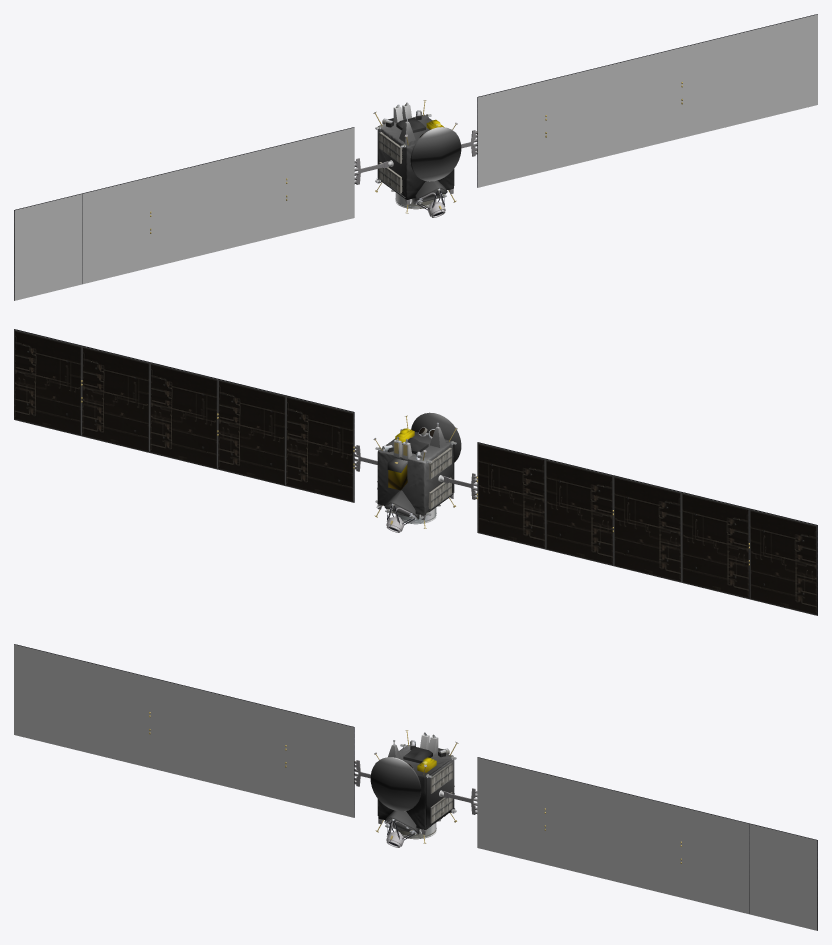
File: Dawn.obj
The picture shows the model from 3 angles, top to bottom: view 1: azimuth 30°, elevation 25°; view 2: azimuth 150°, elevation 25°; view 3: azimuth 330°, elevation 25°; orthographic projection.
Visible parts, largest first — view 1: obj9, obj3, obj6, obj7, obj8; view 2: obj8, obj3, obj7, obj6, obj4; view 3: obj9, obj3, obj6, obj7, obj8.
Part boxes in pixels (left/top/right/bottom): obj9: left=14, top=14, right=817, bottom=300; obj3: left=377, top=104, right=454, bottom=204; obj6: left=410, top=127, right=461, bottom=181; obj7: left=373, top=100, right=457, bottom=217; obj8: left=14, top=14, right=817, bottom=300; obj8: left=14, top=329, right=817, bottom=615; obj3: left=377, top=427, right=454, bottom=519; obj7: left=373, top=415, right=457, bottom=532; obj6: left=411, top=412, right=461, bottom=462; obj4: left=388, top=428, right=414, bottom=490; obj9: left=14, top=644, right=817, bottom=930; obj3: left=377, top=734, right=454, bottom=834; obj6: left=370, top=757, right=421, bottom=811; obj7: left=374, top=730, right=458, bottom=847; obj8: left=14, top=644, right=817, bottom=930.
Bounding box in the file's own units: 19.7 × 2.2 × 2.22.
7 materials, 5 textured.
